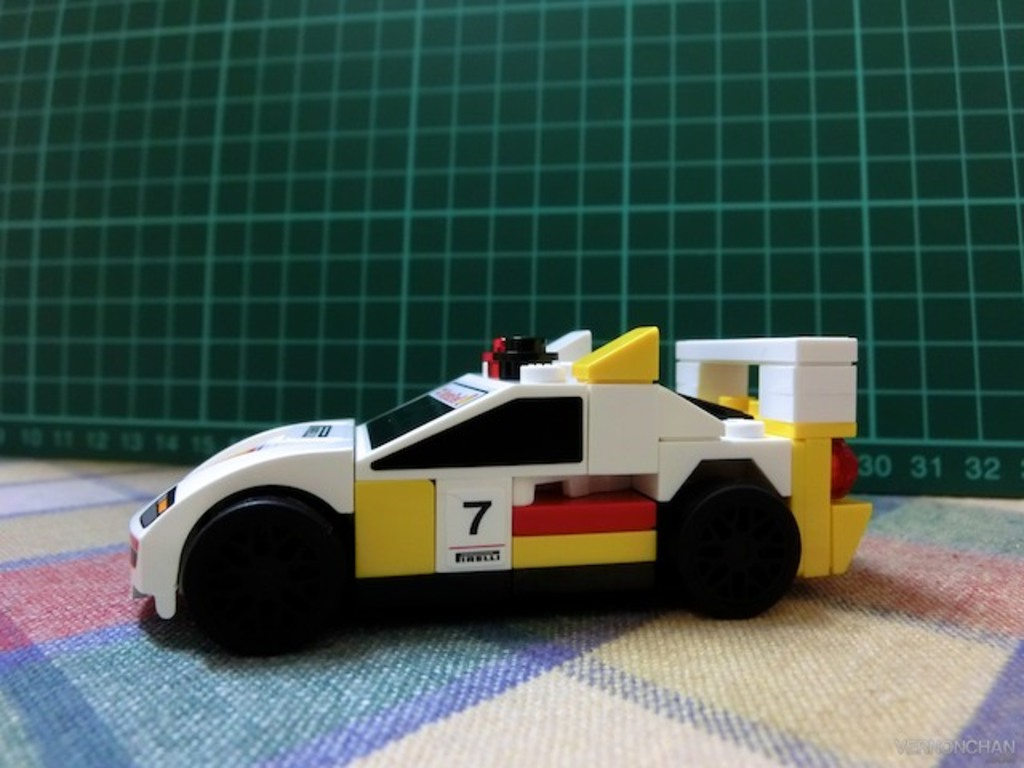cars: (126, 318, 863, 646)
